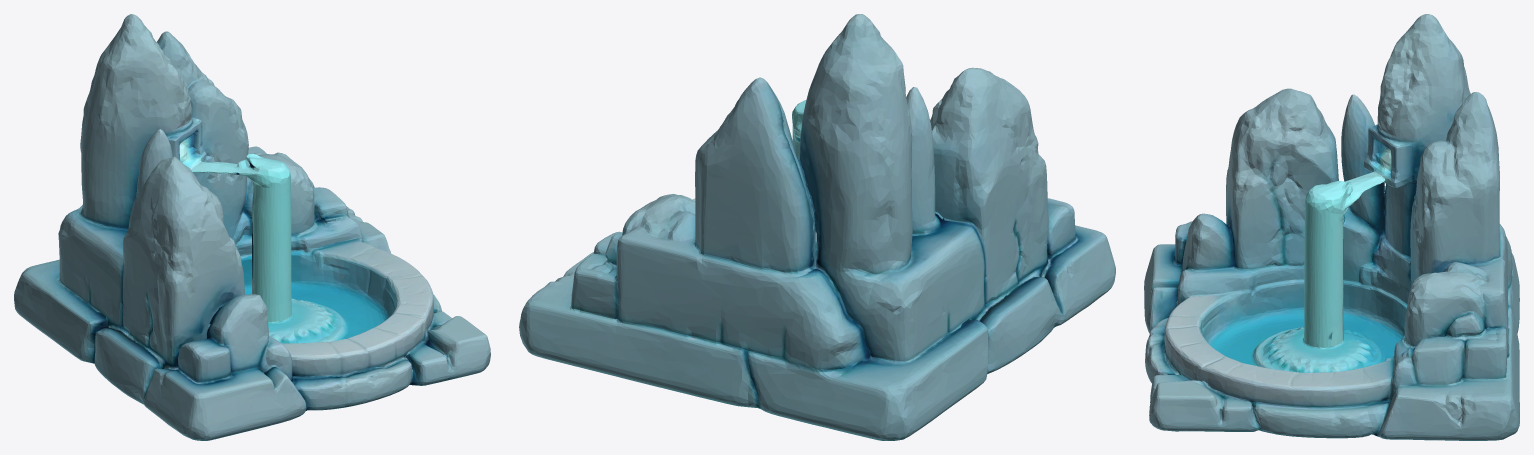
The model's file is crystal_aquifer_shrine.glb.
3 renders of one model, left to right at view 1: azimuth 30°, elevation 25°; view 2: azimuth 150°, elevation 25°; view 3: azimuth 270°, elevation 25°, orthographic. The views are drawn at different scales.
Visible parts, largest first — view 1: tmpq6i22nby.ply; view 2: tmpq6i22nby.ply; view 3: tmpq6i22nby.ply.
Boxes of the visible parts, x1,y1,x2,y2 form: tmpq6i22nby.ply: (14,14,490,440); tmpq6i22nby.ply: (519,14,1115,440); tmpq6i22nby.ply: (1144,14,1519,440).
Size of the model in its own units: 1.99 by 1.82 by 1.99.
Materials: 1 (1 with a texture image).
